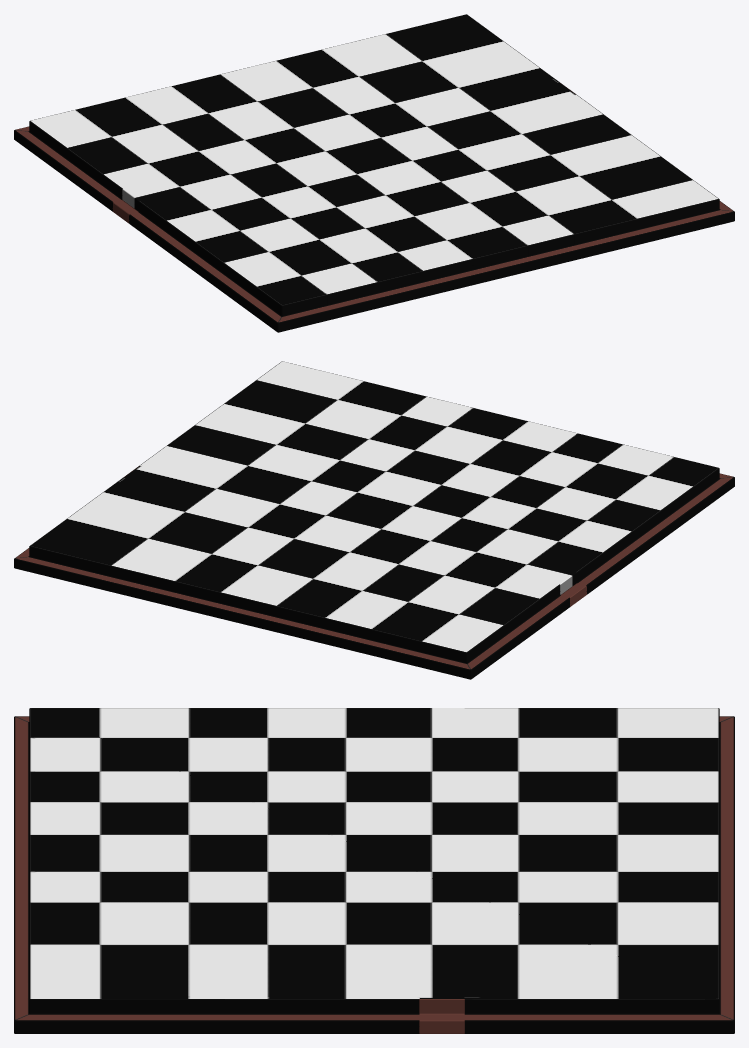
The model's file is chessboard.glb.
3 views of the same model, one above another, from view 1: azimuth 30°, elevation 25°; view 2: azimuth 150°, elevation 25°; view 3: azimuth 270°, elevation 25° (orthographic). The views are drawn at different scales.
Parts seen in each view (by area): view 1: chessboard; view 2: chessboard; view 3: chessboard.
Part boxes in pixels (x1,y1,x2,y2): chessboard: [14, 14, 734, 332]; chessboard: [14, 361, 734, 679]; chessboard: [14, 708, 734, 1033].
Size of the model in its own units: 1.5 by 0.065 by 1.5.
1 material, 1 textured.
